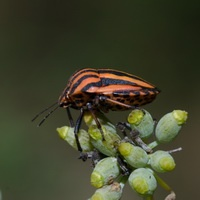insect: (58, 68, 159, 155)
